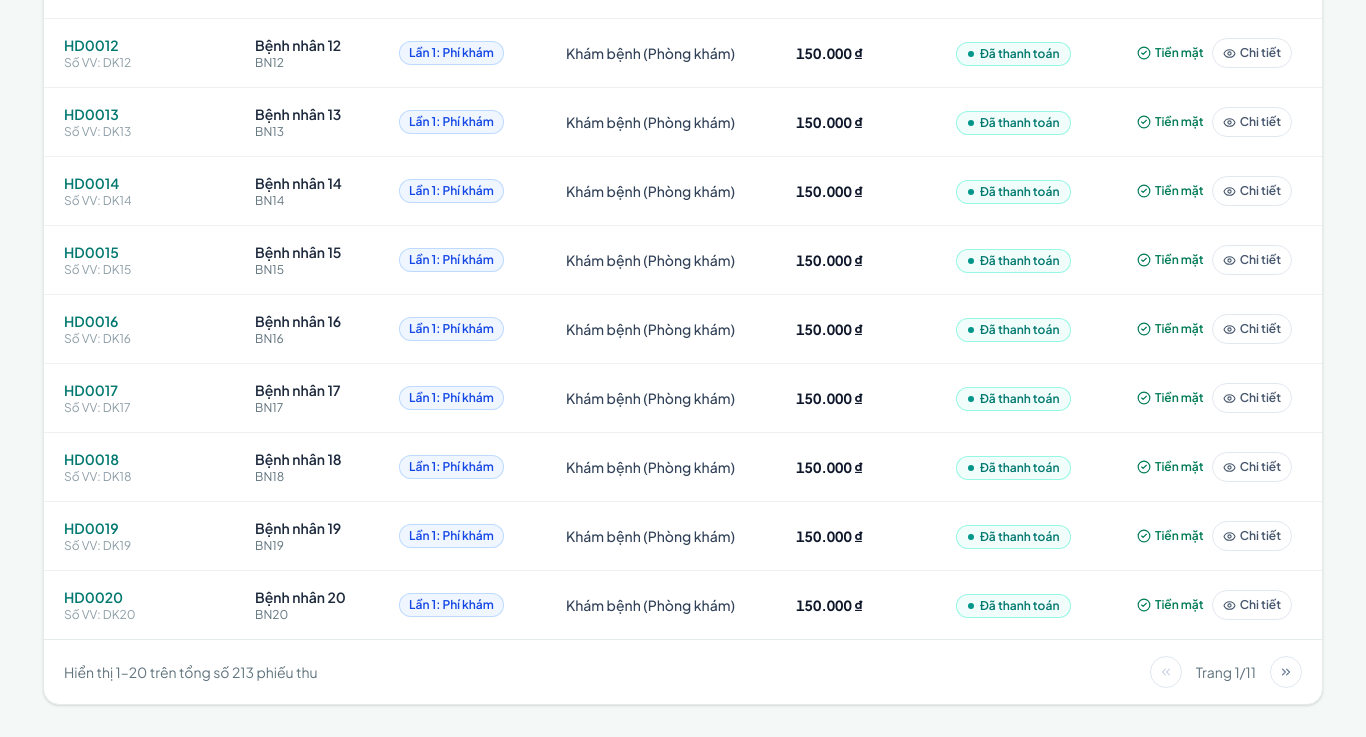
Test: PaymentManagementPage (UC-70) › counts the cards over all receipts, not only the 20 rows of the page
The image size is (1366, 737).
(page scrolled)
Click the button named "Trang sau" at (1286, 672), box [1270, 656, 1302, 688]
(page scrolled)
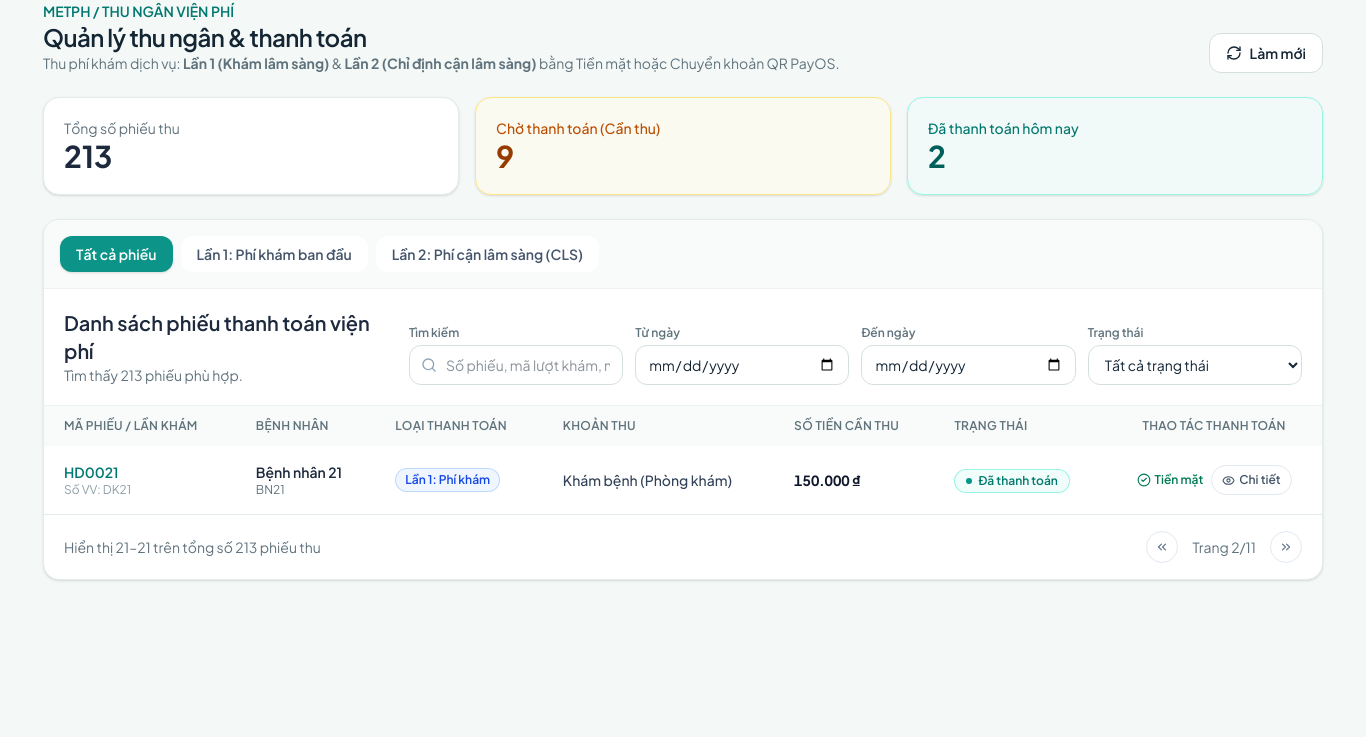
Check: the text "Tìm thấy 213 phiếu phù hợp." is shown, box [64, 366, 243, 384]
Check: the text "Bệnh nhân 21" is shown, box [256, 462, 355, 482]
